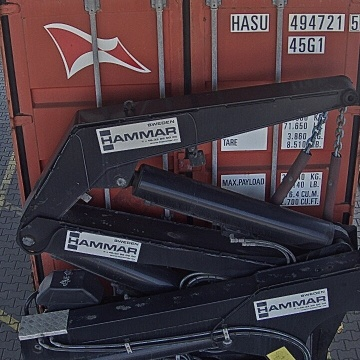serial_id: (231, 14, 360, 30)
